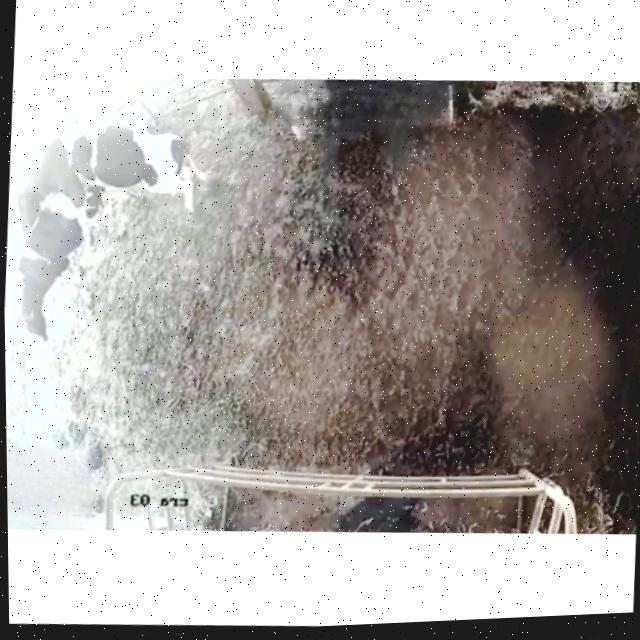ride: (5, 91, 219, 249)
